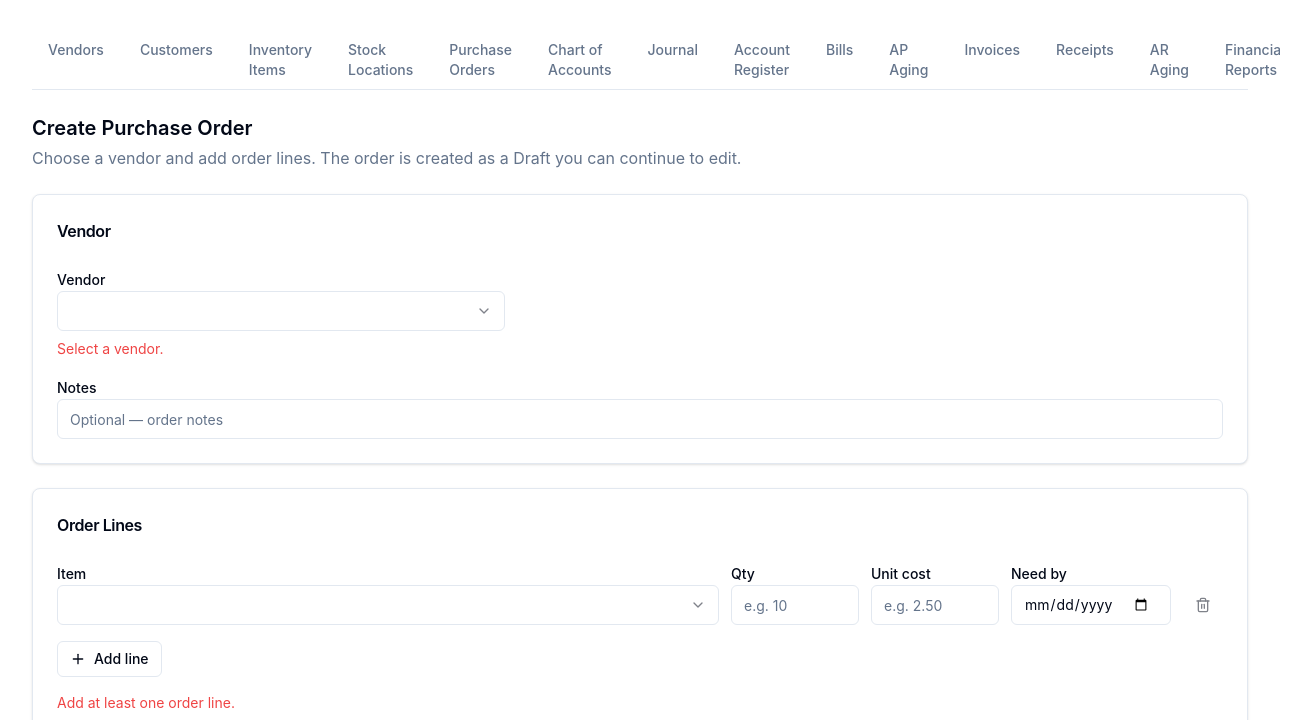
Test case: PurchaseOrderCreate screen › adds a line row when "Add line" is clicked
This screenshot has width=1292, height=720.
Click the button "Add line". click: (109,659)
box: [57, 641, 162, 677]
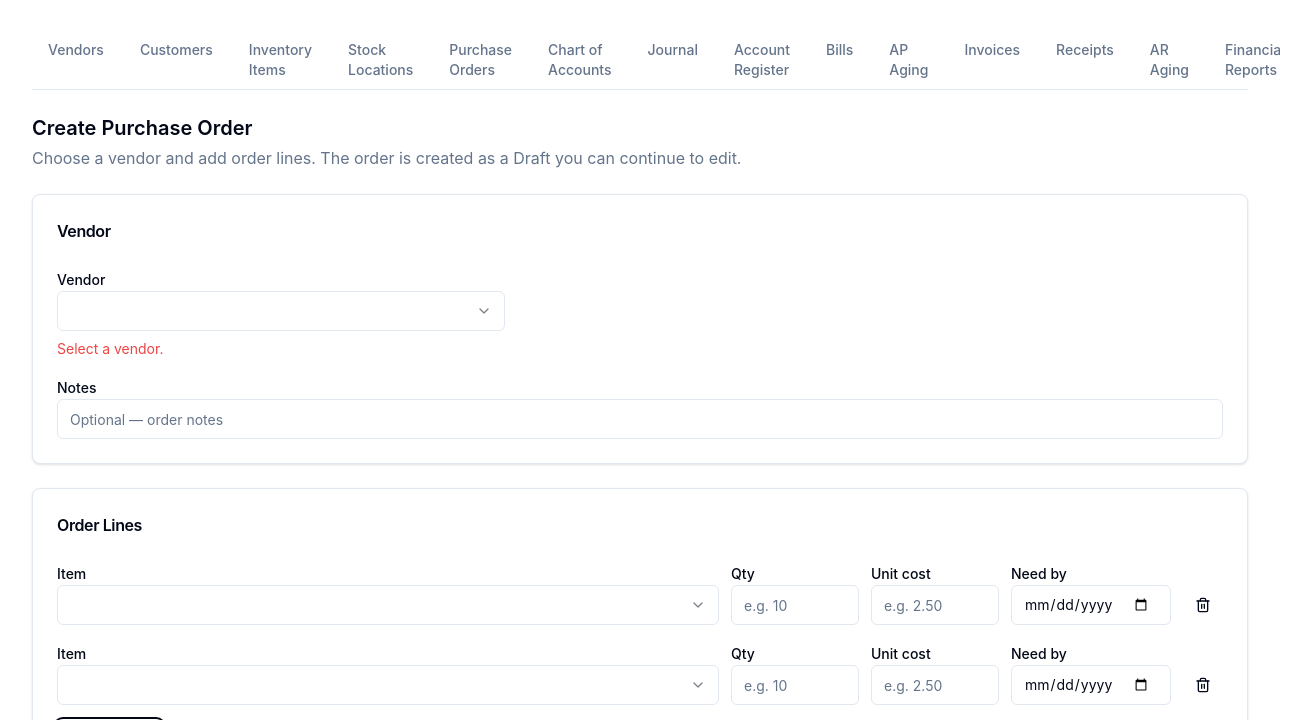
Result: the element named "Order line 2" is shown at [57, 641, 1223, 705]
